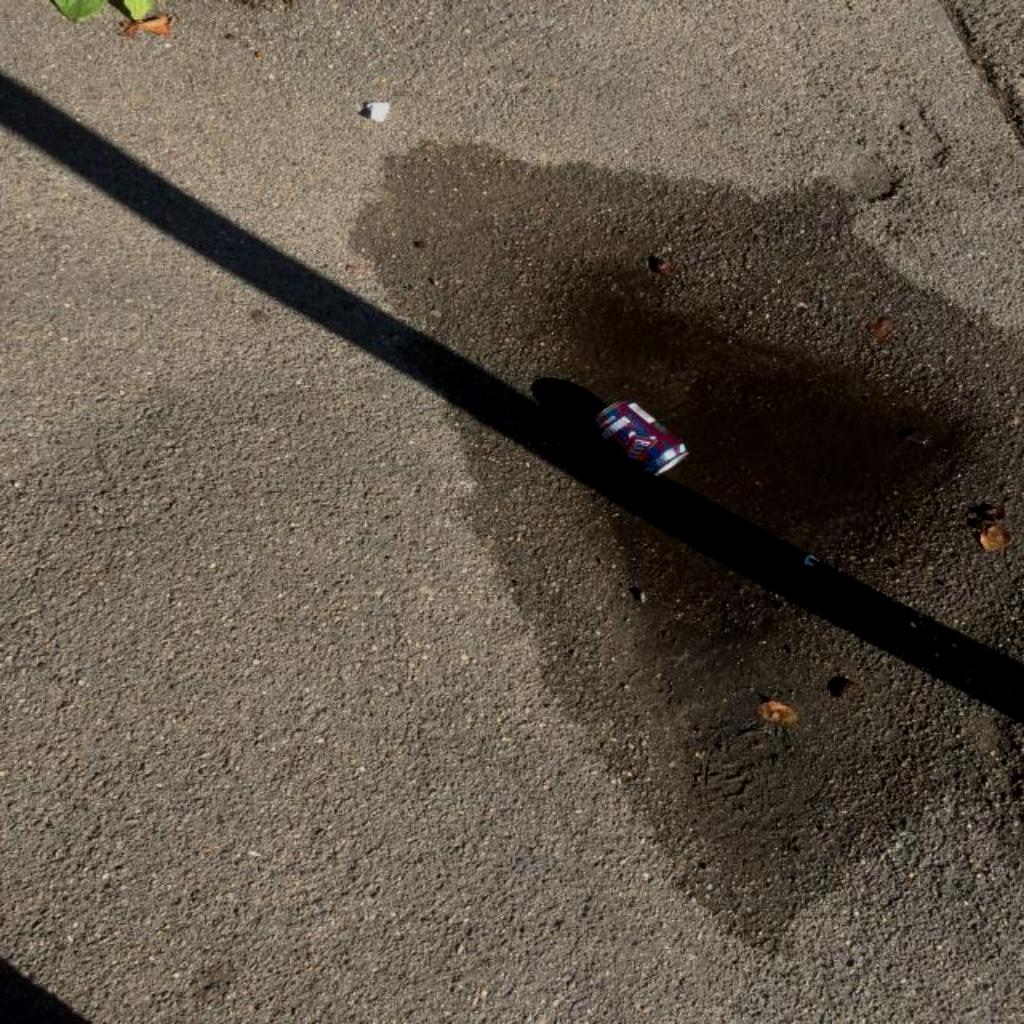garbage: (594, 394, 691, 485)
